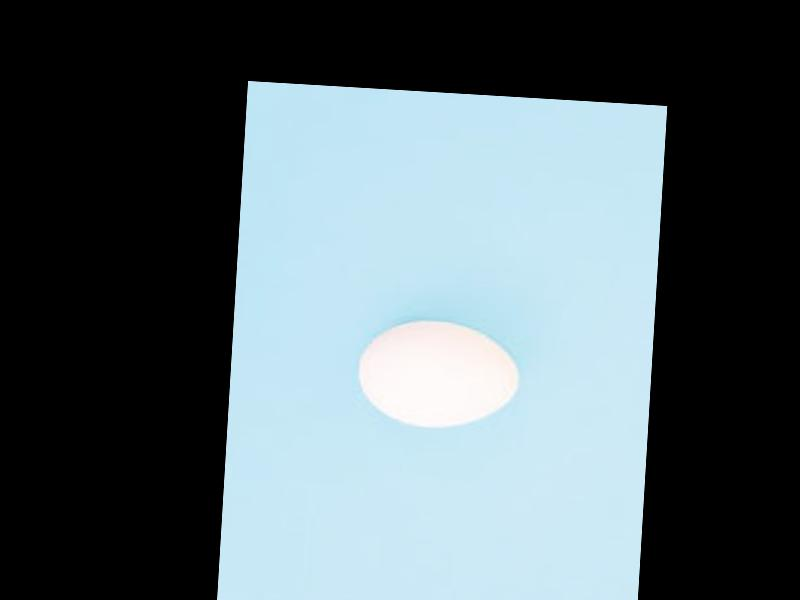Eggs: (355, 315, 525, 430)
